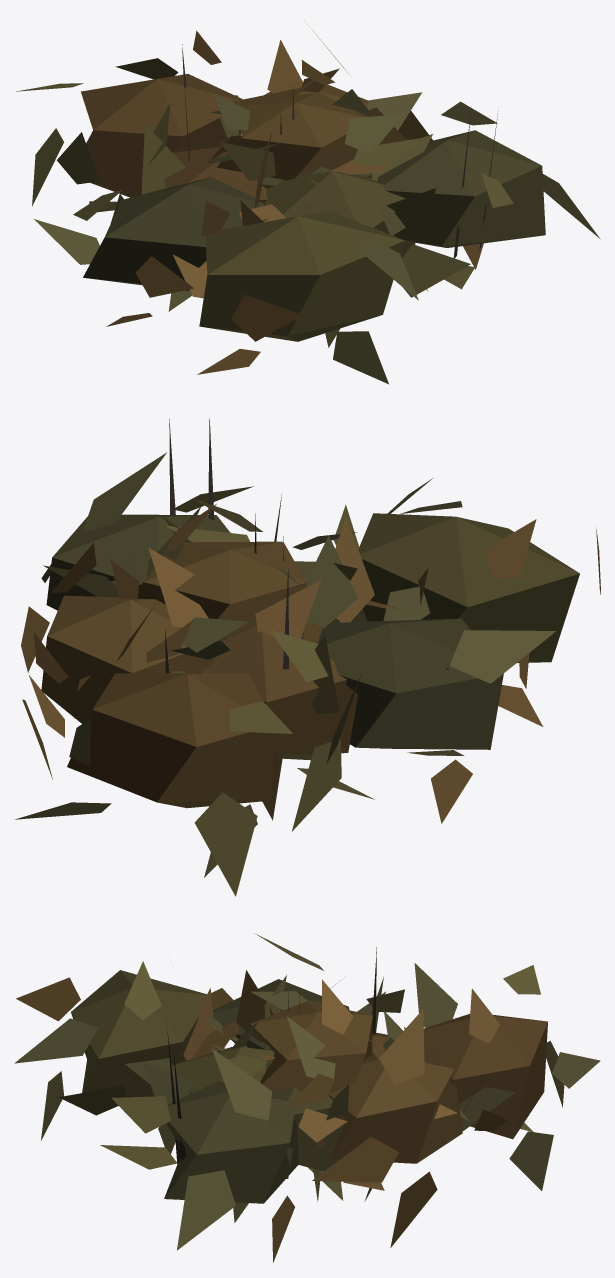
File: shinnery-high.glb
3 views of the same model, one above another, from view 1: azimuth 30°, elevation 25°; view 2: azimuth 150°, elevation 25°; view 3: azimuth 270°, elevation 25° (orthographic). The views are drawn at different scales.
Parts seen in each view (by area): view 1: shinnery-high / foliage-core, shinnery-high / foliage, shinnery-high / wood; view 2: shinnery-high / foliage-core, shinnery-high / foliage, shinnery-high / wood; view 3: shinnery-high / foliage-core, shinnery-high / foliage, shinnery-high / wood.
Boxes of the visible parts, x1,y1,x2,y2 form: shinnery-high / foliage-core: (81,74,545,341); shinnery-high / foliage: (16,20,600,384); shinnery-high / wood: (182,44,498,258); shinnery-high / foliage-core: (41,513,579,808); shinnery-high / foliage: (15,452,600,896); shinnery-high / wood: (165,418,289,673); shinnery-high / foliage-core: (71,970,547,1203); shinnery-high / foliage: (14,933,600,1262); shinnery-high / wood: (167,947,376,1163).
Bounding box in the file's own units: 2.5 × 1.22 × 2.83.
